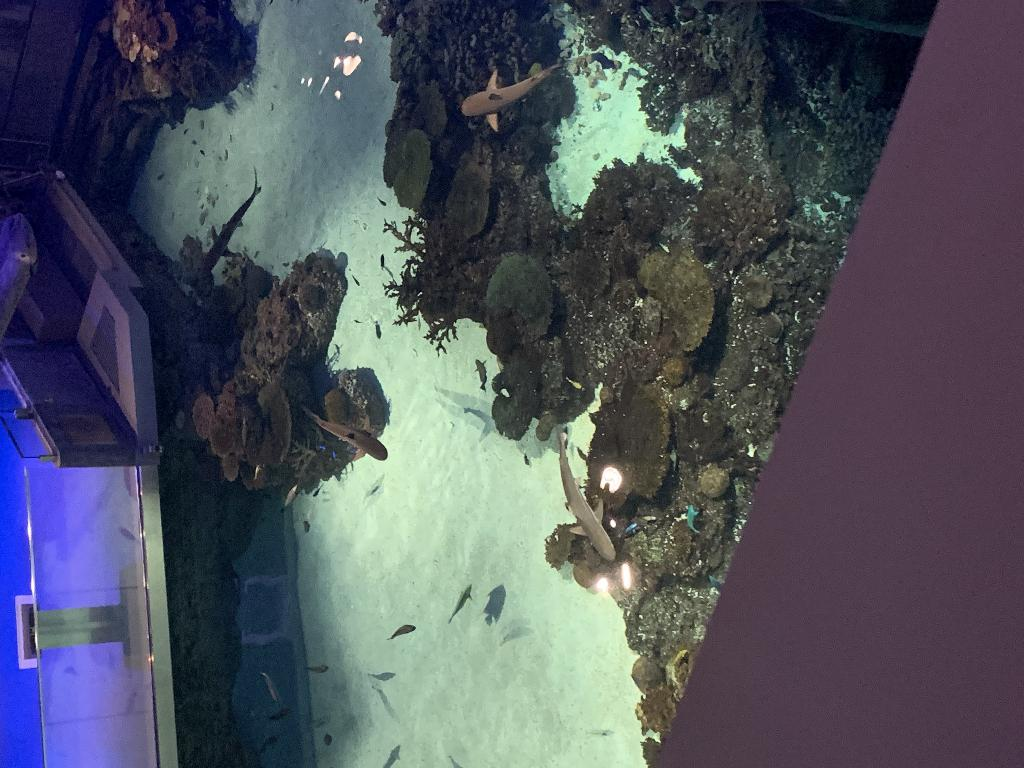fish: (444, 582, 474, 626), (259, 669, 285, 709), (472, 357, 492, 393), (385, 622, 417, 642), (281, 484, 301, 510), (616, 520, 640, 540), (686, 502, 700, 534), (251, 462, 269, 484), (301, 662, 329, 674), (707, 573, 721, 593), (311, 481, 325, 499), (350, 272, 362, 286), (374, 318, 382, 338), (378, 252, 386, 270), (376, 196, 386, 208), (638, 516, 656, 522), (199, 149, 205, 157)
shark: (196, 164, 268, 280), (556, 430, 618, 562), (460, 60, 572, 130), (298, 402, 388, 462)
